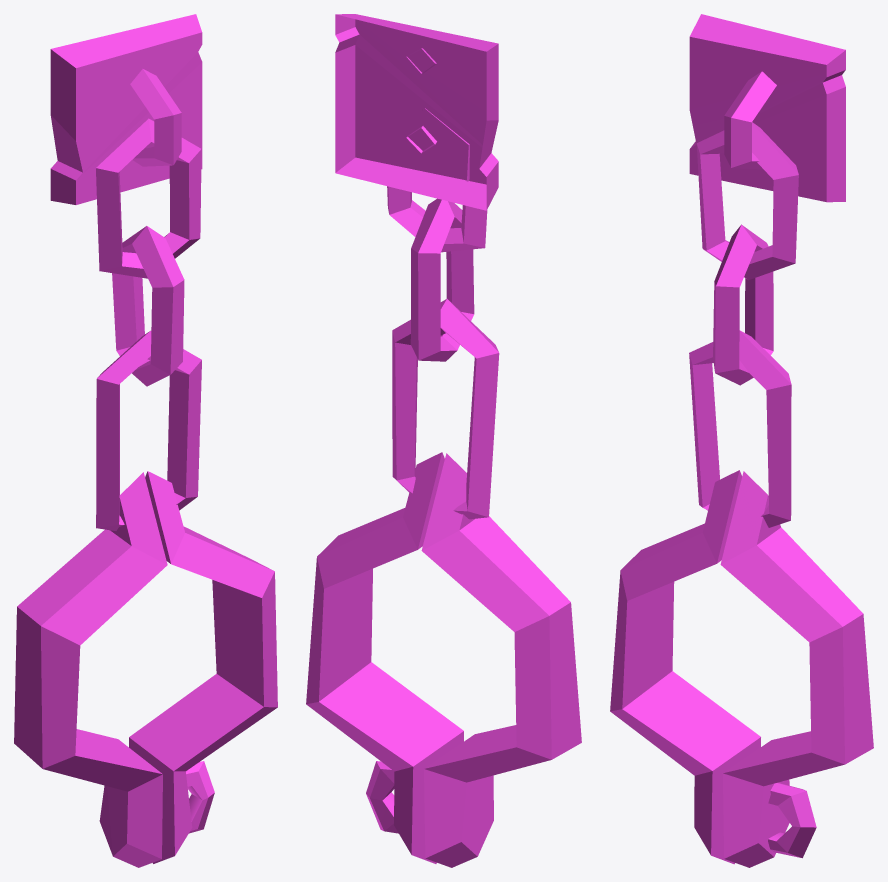
File: SM_Handcuffs_Fantasy.fbx
3 renders of one model, left to right at view 1: azimuth 30°, elevation 25°; view 2: azimuth 150°, elevation 25°; view 3: azimuth 330°, elevation 25°, orthographic. The views are drawn at different scales.
Visible parts, largest first — view 1: SM_Handcuffs_Fantasy; view 2: SM_Handcuffs_Fantasy; view 3: SM_Handcuffs_Fantasy.
Part boxes in pixels (bbox=[...]): SM_Handcuffs_Fantasy: bbox=[14, 14, 277, 867]; SM_Handcuffs_Fantasy: bbox=[306, 14, 581, 867]; SM_Handcuffs_Fantasy: bbox=[610, 14, 873, 867].
Size of the model in its own units: 0.1914 by 0.6333 by 0.0763.
